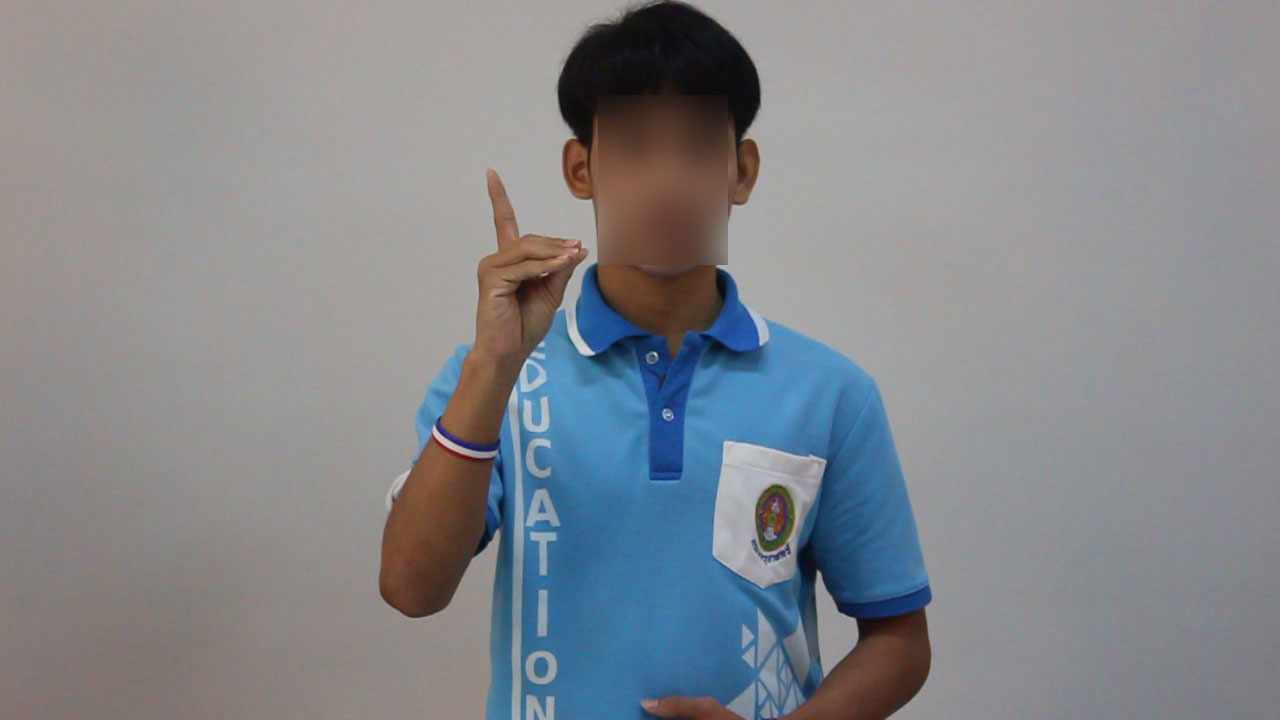dor: (462, 161, 594, 355)
